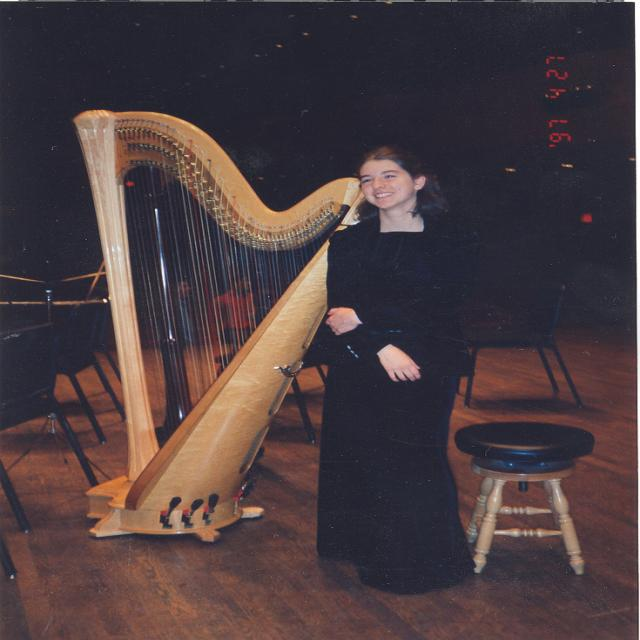harp: (69, 107, 371, 548)
